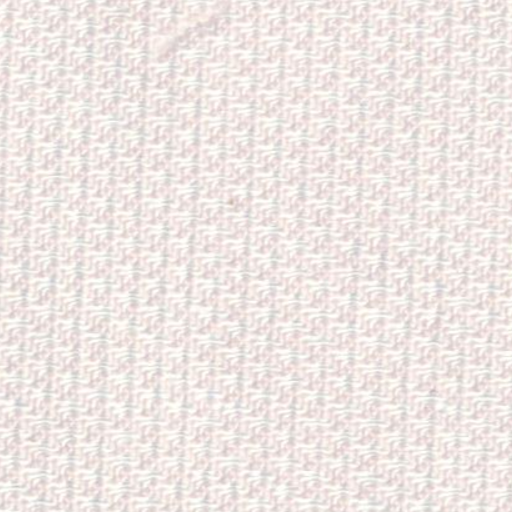DuanSha: (143, 12, 229, 54)
